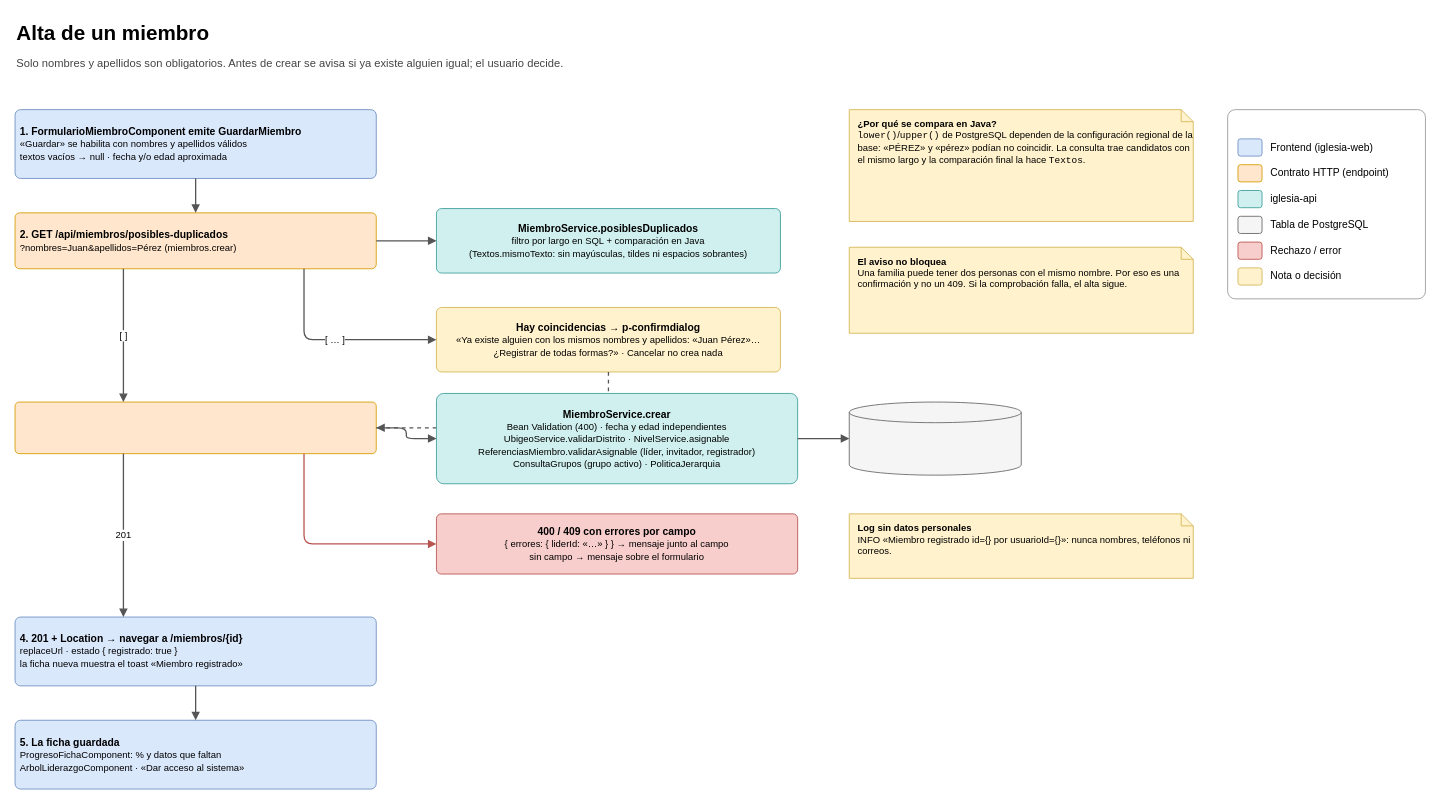
This 1441x804 diagram has some shape labels left out. Each missing label, with the box of its shape:
3. POST /api/miembros sin coincidencias, o tras confirmar: (14, 401, 376, 454)
Leyenda: (1227, 109, 1425, 299)
miembro INSERT · iglesia_id lo pone Hibernate: (848, 401, 1021, 475)
